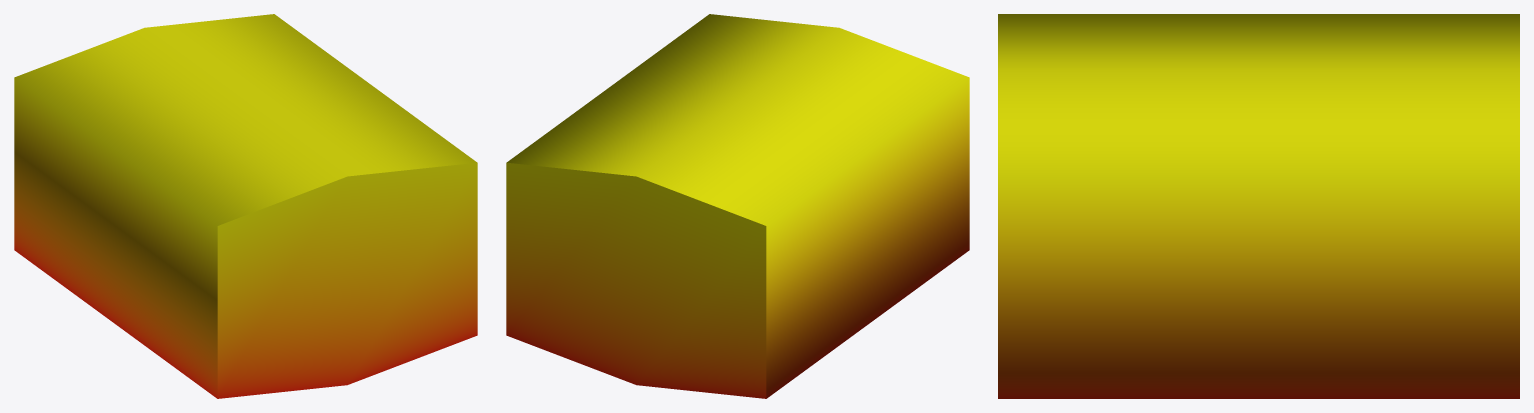
The model's file is ExplosionBeamMiddle.fbx.
3 renders of one model, left to right at view 1: azimuth 30°, elevation 25°; view 2: azimuth 150°, elevation 25°; view 3: azimuth 270°, elevation 25°, orthographic. The views are drawn at different scales.
Parts seen in each view (by area): view 1: pCube14; view 2: pCube14; view 3: pCube14.
Part boxes in pixels (<box>): pCube14: <box>14,14,477,398</box>; pCube14: <box>506,14,969,398</box>; pCube14: <box>998,14,1519,398</box>.
Bounding box in the file's own units: 0.739 × 0.5668 × 1.
